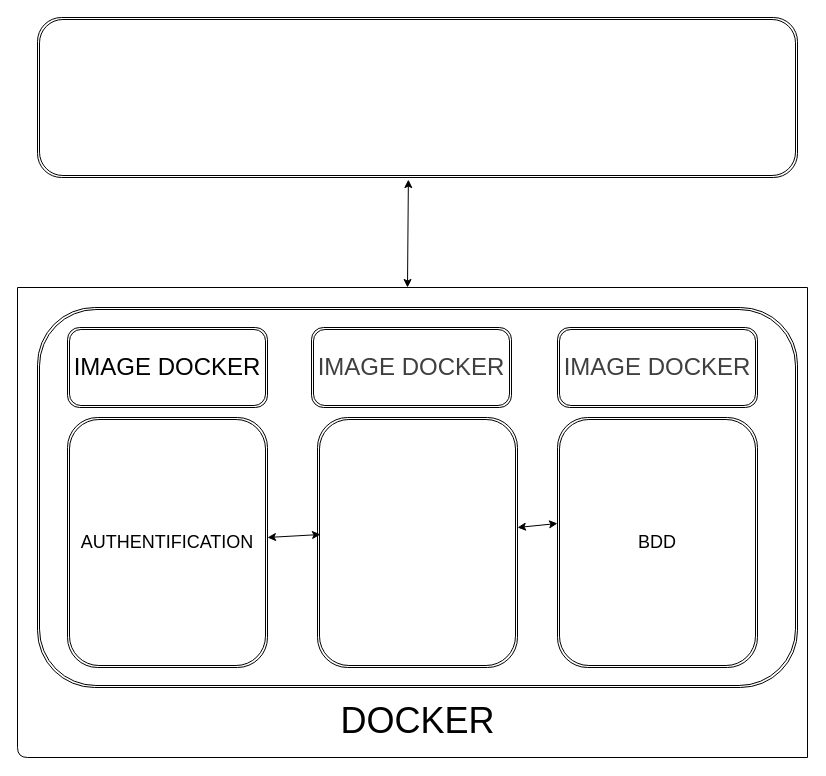
Some shapes in this 826 by 776 pixel diagram are drawn without their labels. The centre of each missing label's shape, as x and y in pixels:
API: (417,542)
CLIENT HOTE: (417,97)
